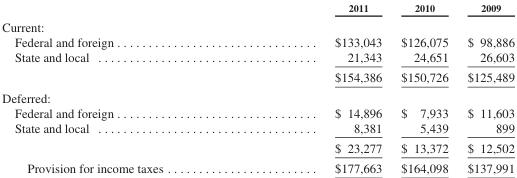table: (1, 1, 513, 175)
table column: (1, 1, 248, 175), (248, 1, 390, 175), (390, 1, 457, 175), (457, 1, 513, 175)
table column header: (1, 1, 513, 16)
table projected row header: (1, 16, 513, 34), (1, 87, 513, 104)
table row: (1, 66, 513, 87), (1, 137, 513, 157), (1, 16, 513, 34), (1, 157, 513, 175), (1, 49, 513, 66), (1, 87, 513, 104), (1, 120, 513, 137), (1, 104, 513, 120), (1, 1, 513, 16), (1, 34, 513, 49)
